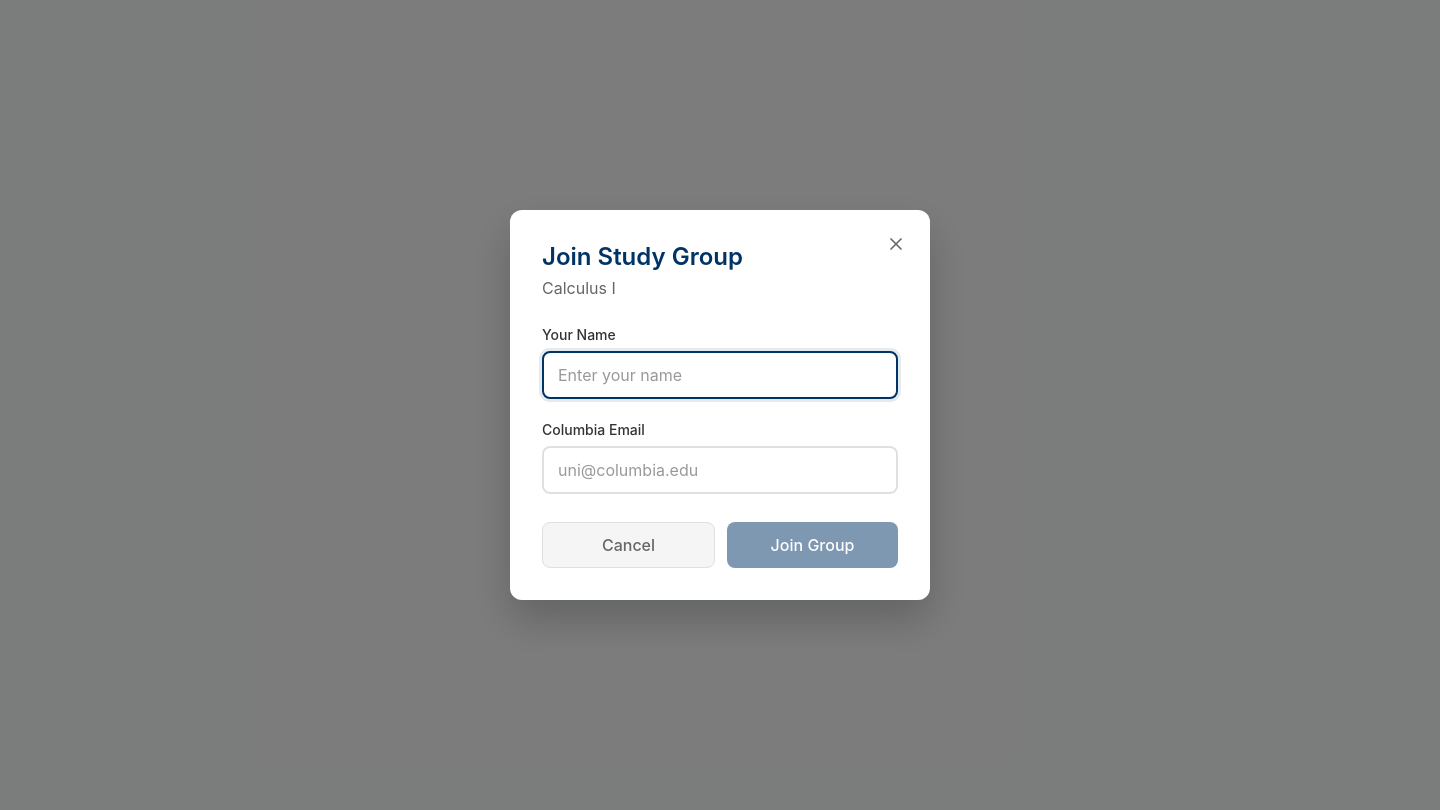
Test: JoinModal › shows error message on submission failure
The width and height of the screenshot is (1440, 810).
Type "John" into the field labelled "Your Name" at (720, 375), box [542,351,898,399]
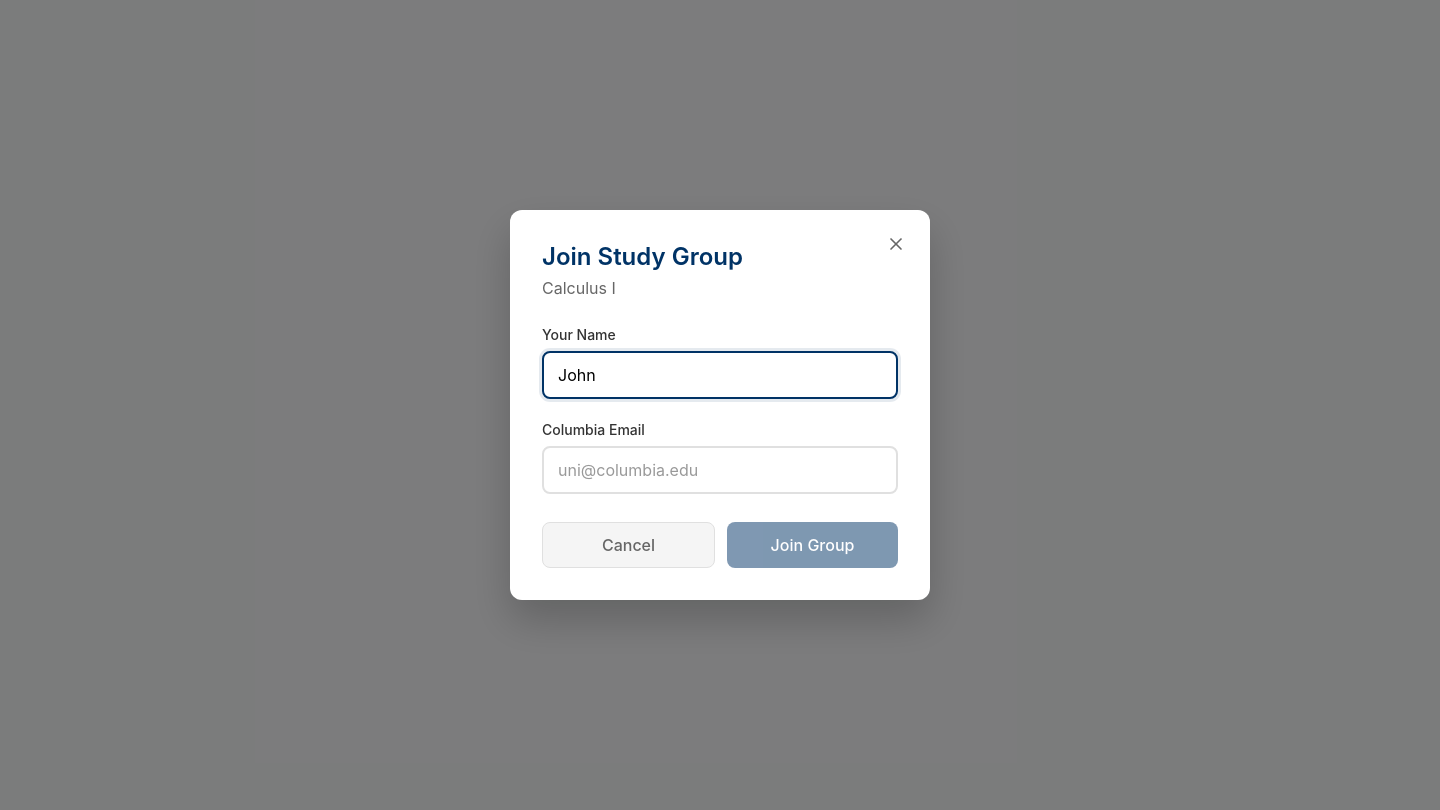
Type "john@columbia.edu" into the field labelled "Columbia Email" at (720, 470), box [542,446,898,494]
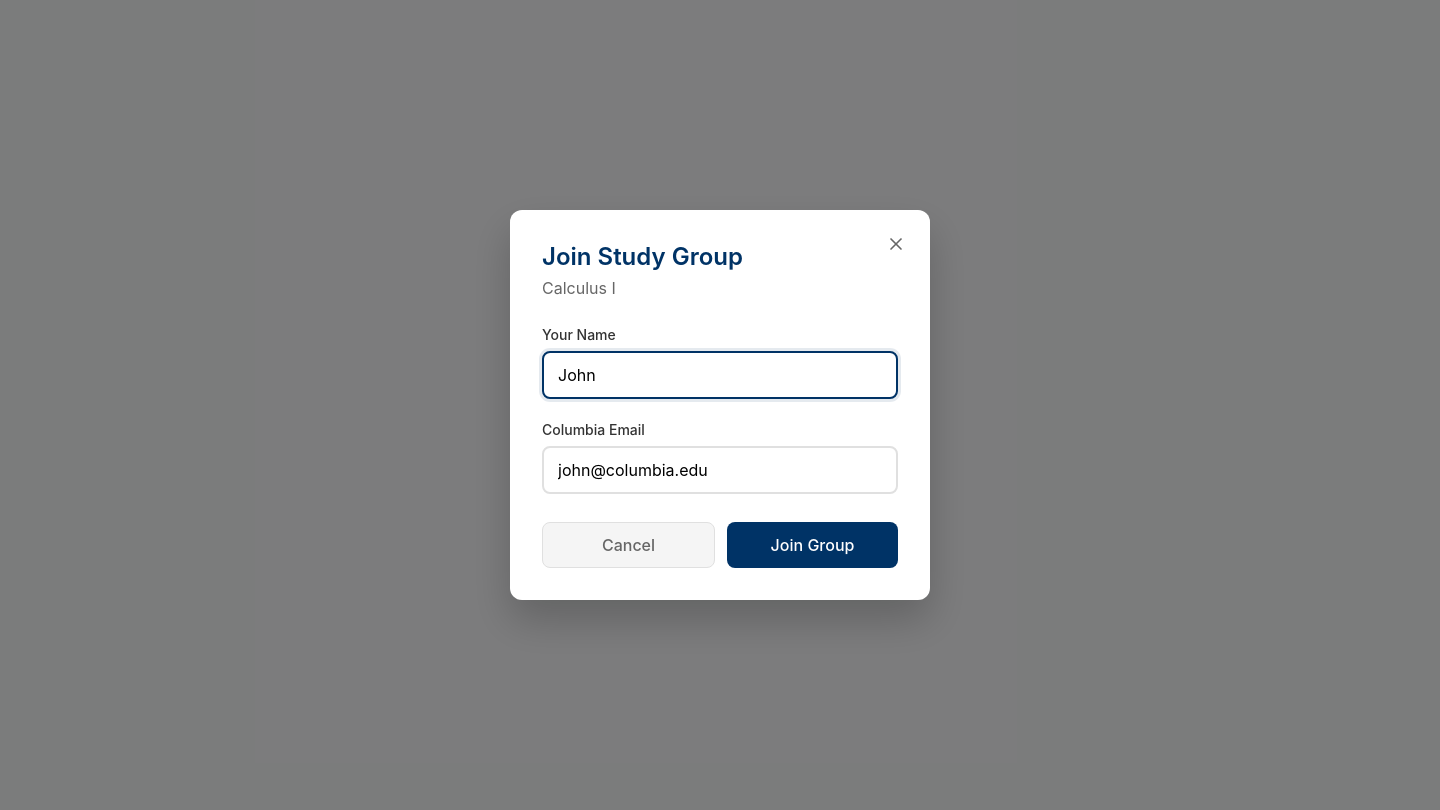
Click the button "Join Group" at (812, 545), box [727,522,898,568]
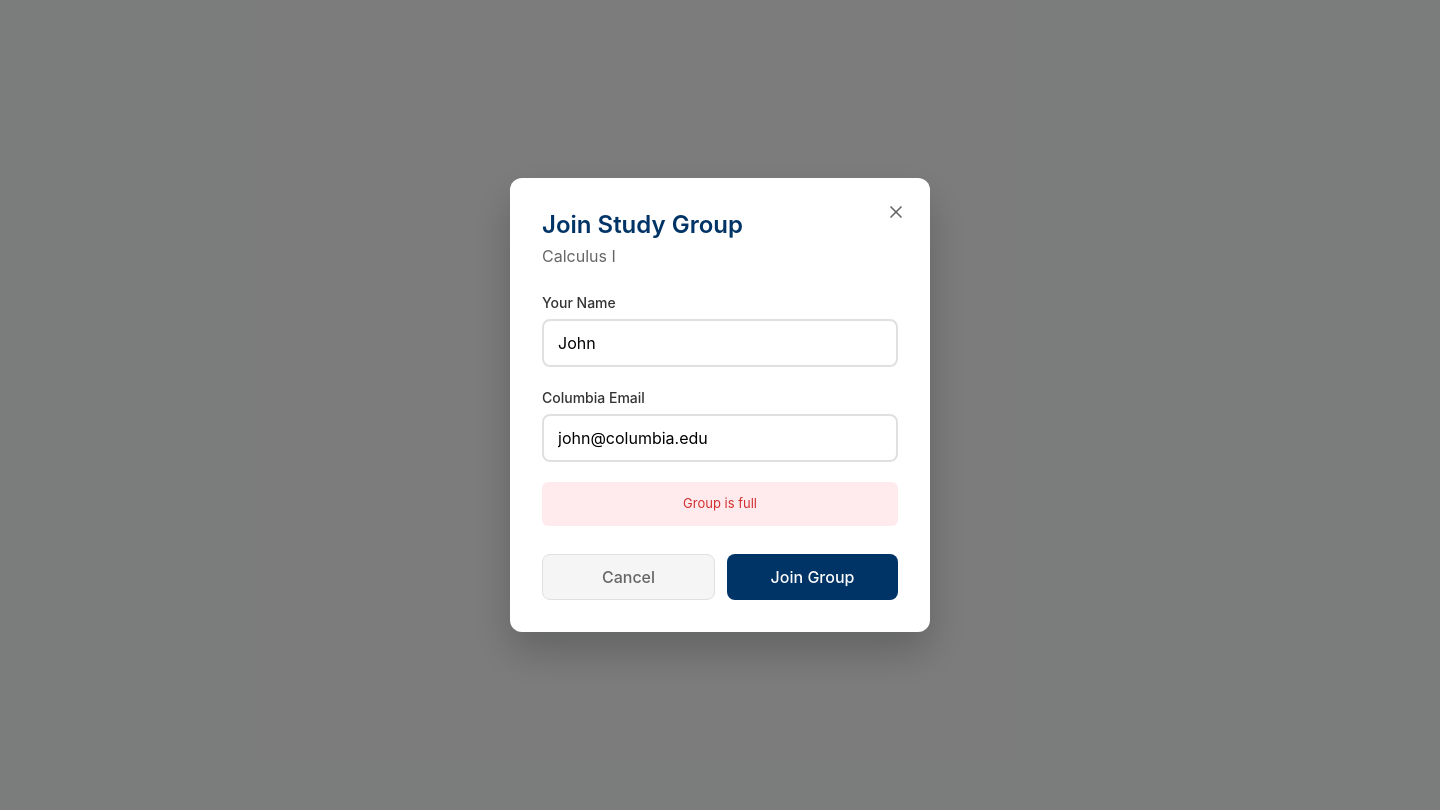
Now the text "Group is full" is shown, box [542,482,898,526]
